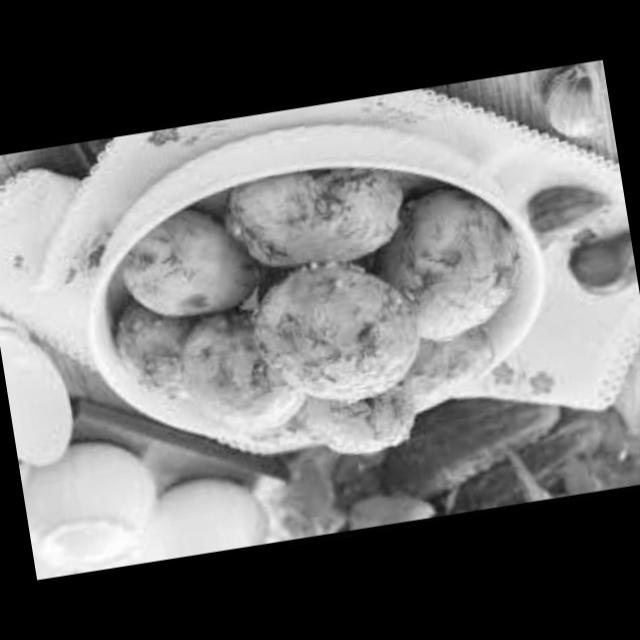cu toi: (526, 174, 622, 256), (536, 61, 615, 152), (556, 230, 640, 308)
dua chuot: (353, 372, 591, 528), (443, 407, 635, 515)
khoai tay: (368, 172, 538, 356), (241, 251, 422, 415), (216, 148, 414, 293), (101, 190, 264, 343), (173, 304, 319, 452), (108, 291, 240, 425), (290, 370, 430, 476), (378, 312, 514, 408)
